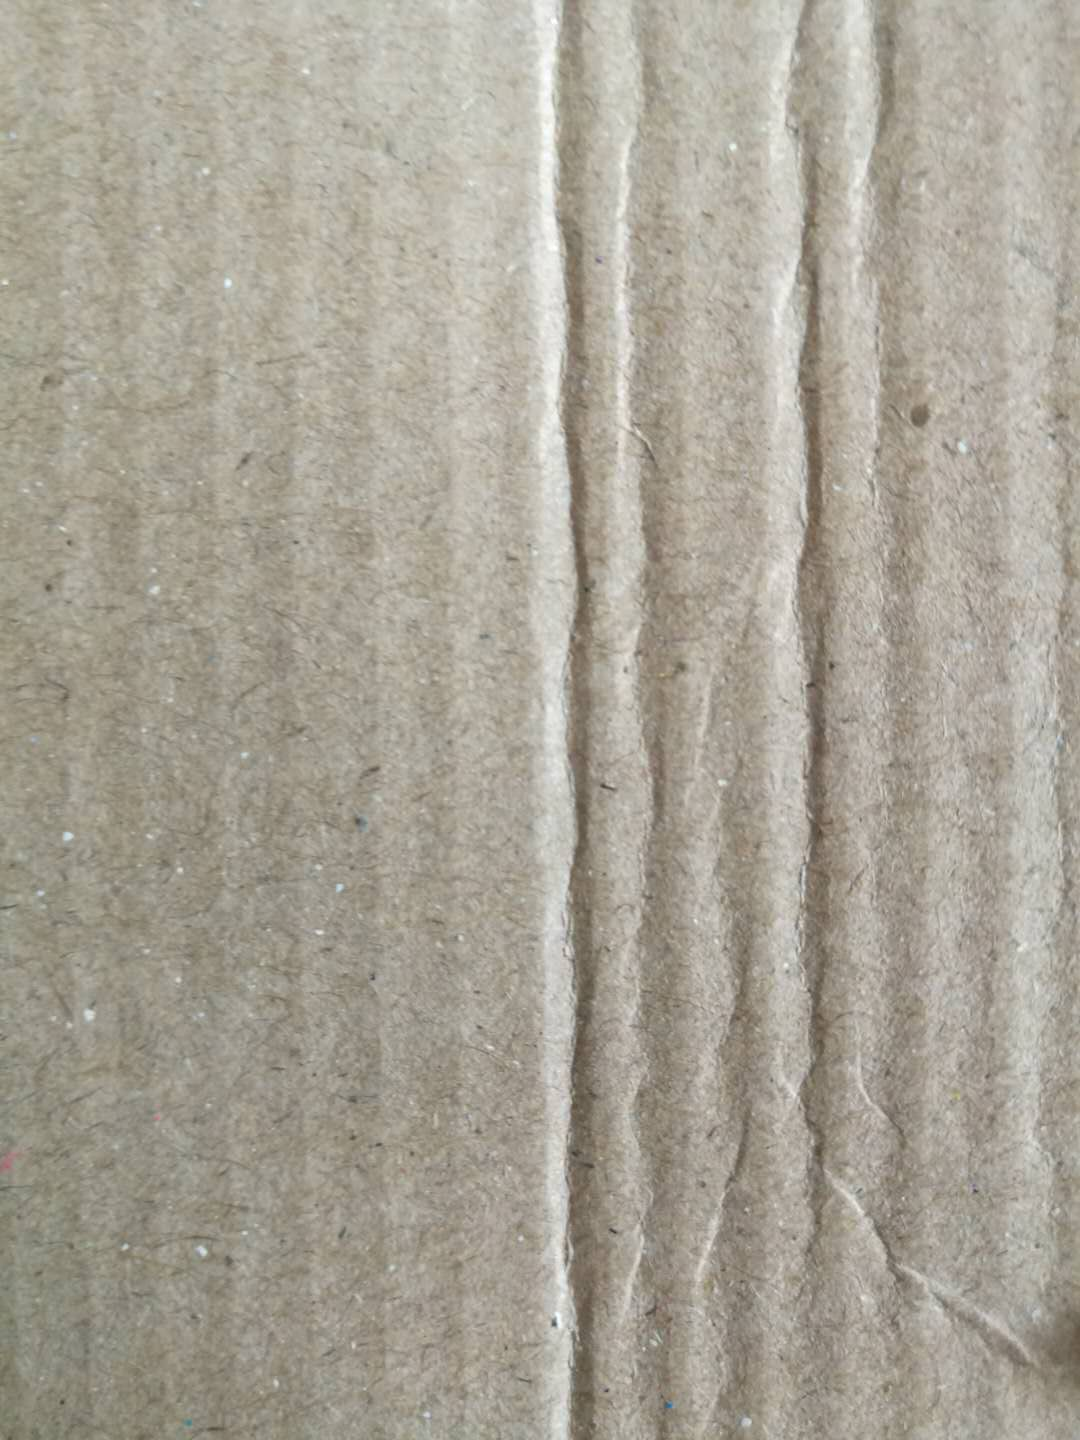defect: (511, 5, 1079, 1439)
